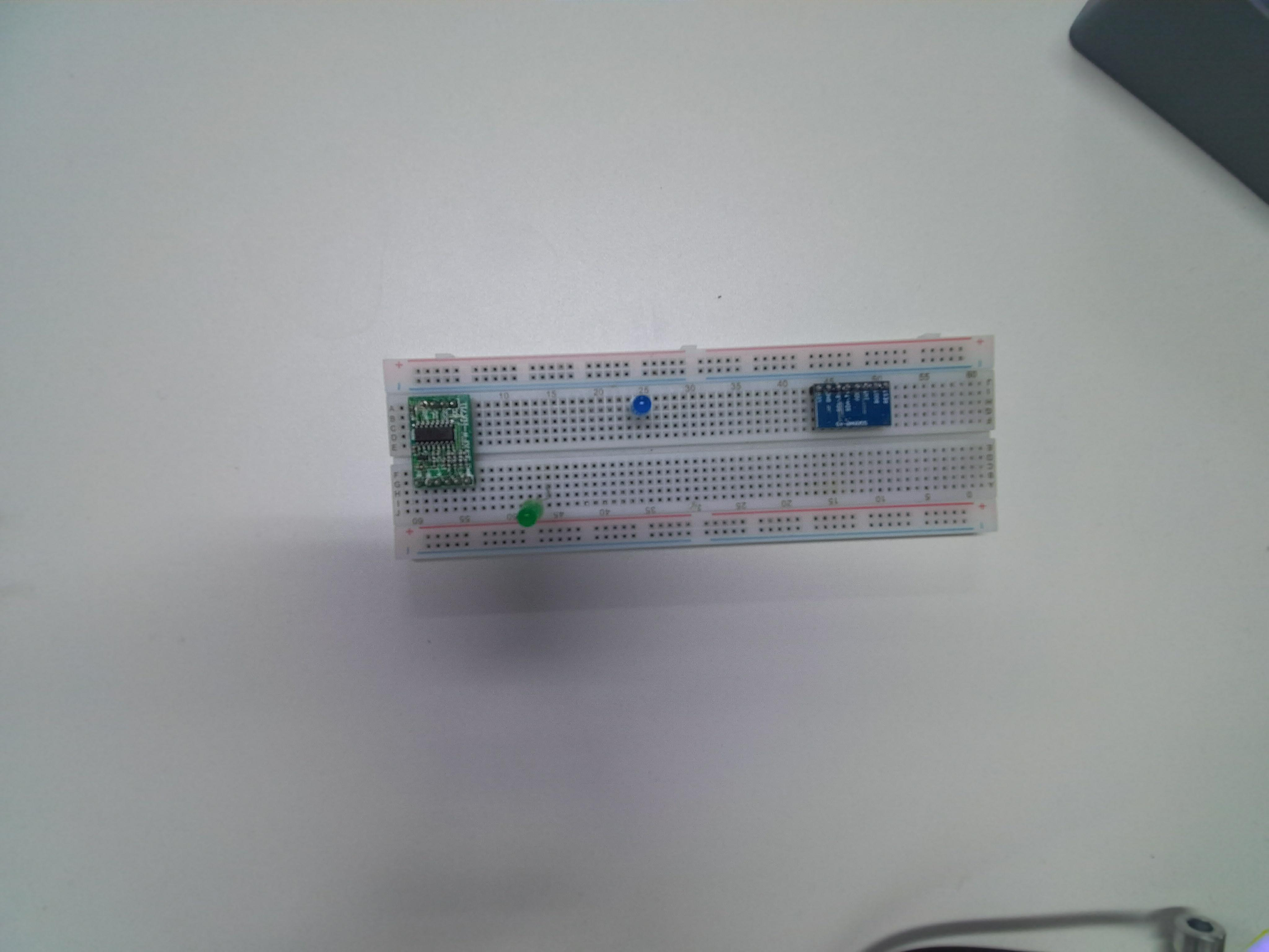base: (379, 336, 1000, 561)
blue-board: (809, 380, 892, 434)
blue-led: (629, 389, 655, 421)
green-board: (404, 389, 478, 494)
green-led: (517, 498, 543, 528)
